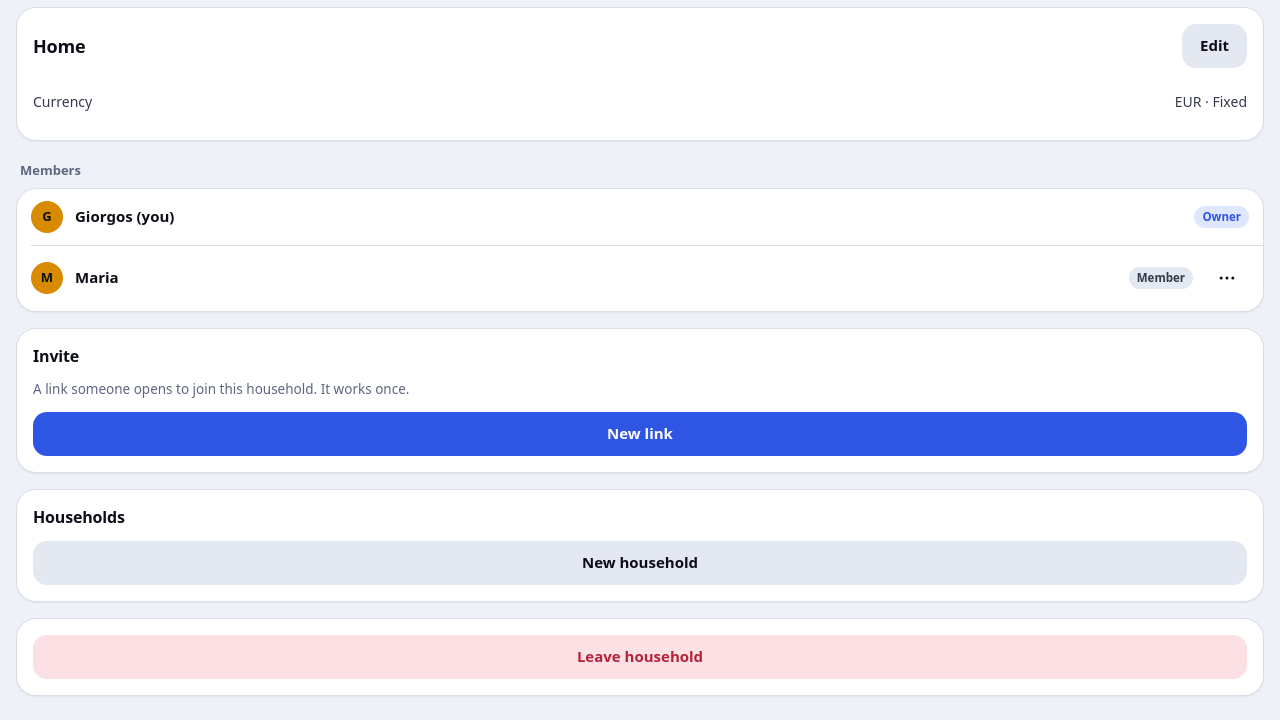
Test case: Household admin › an owner with other members is told to hand over first, with no leave button
(page scrolled)
What coordinates should you click on to do the following:
click the button "Leave household"
I would click on:
 (640, 657)
Its box is [33, 635, 1247, 679].
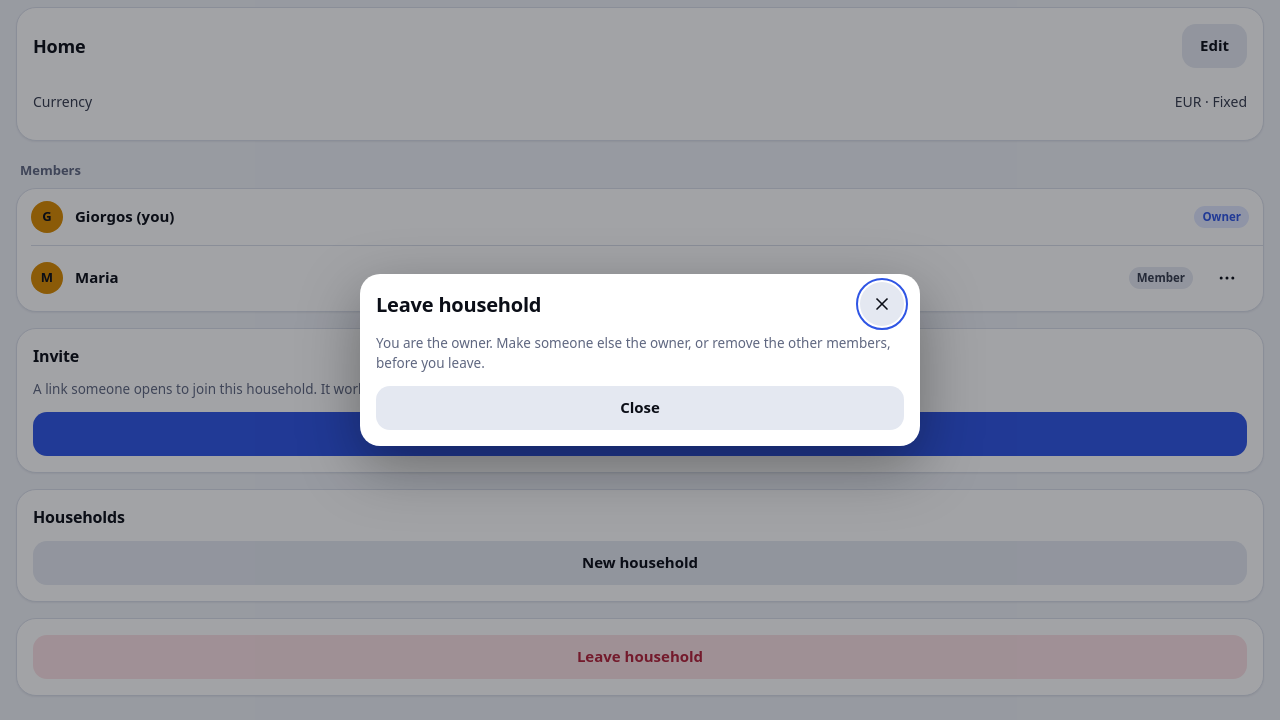
Now the text "Make someone else the owner" is shown, box [376, 334, 891, 372]
